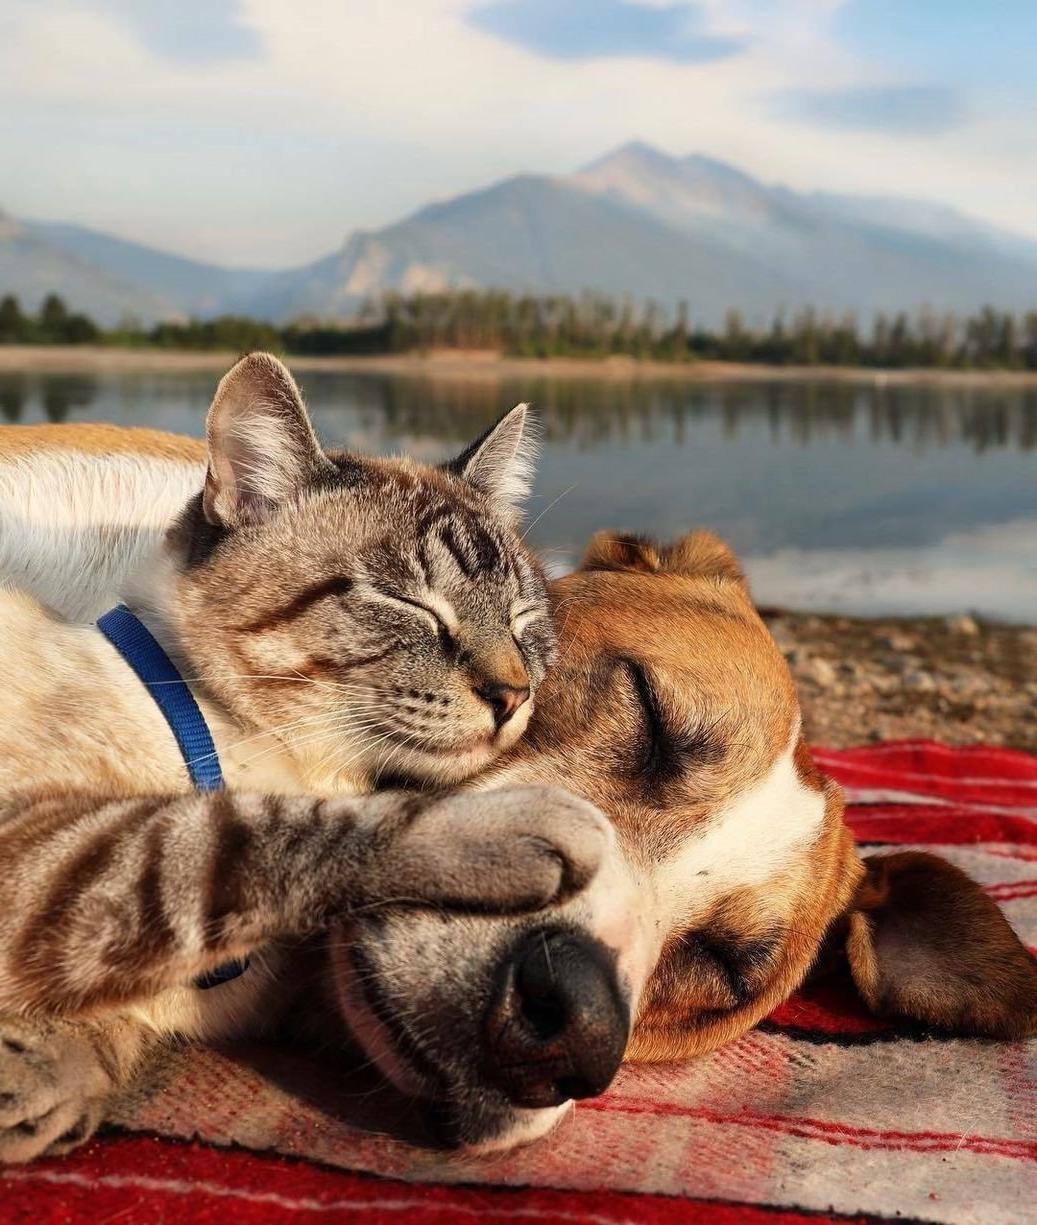animals: (321, 516, 1029, 1154), (0, 354, 547, 782)
